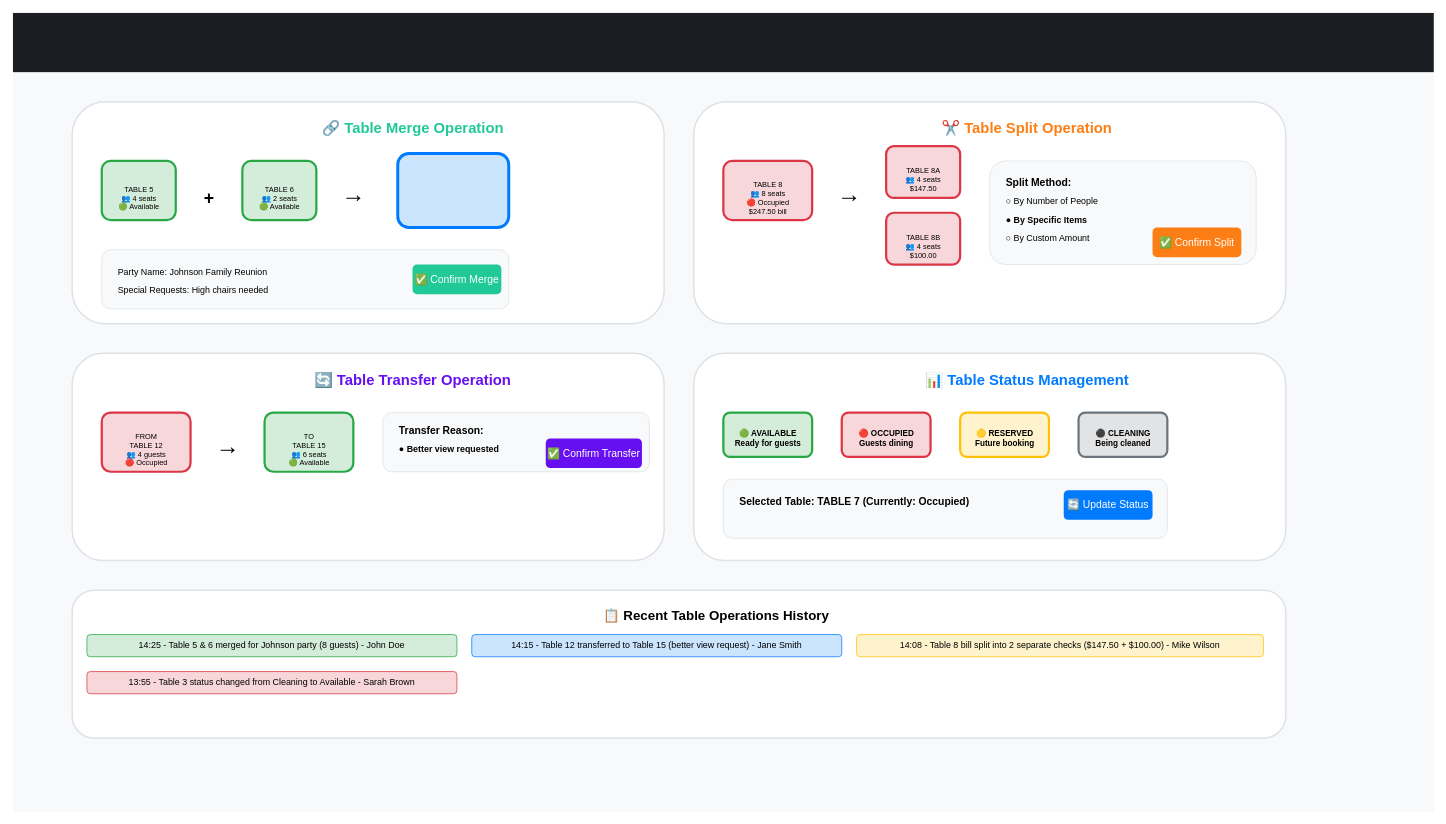
This 1446x824 diagram has some shape labels left out. Here are the shapes that lost their labels. From the top down, the centre of each, then its label:
At (723,42): "🔧 Table Operations - Advanced Management".
At (453,190): "MERGED TABLE 5-6 👥 6 seats 🔵 Merged 2 parties".
